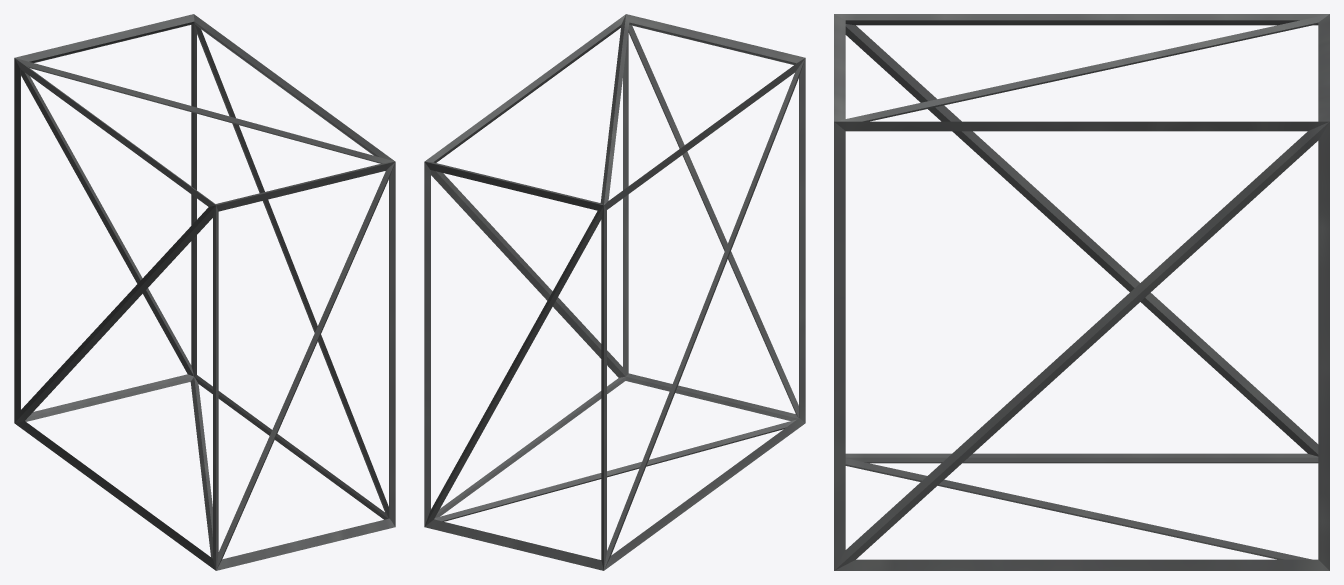
Rendered from scaffolding.fbx.
3 views of the same model, side by side, from view 1: azimuth 30°, elevation 25°; view 2: azimuth 150°, elevation 25°; view 3: azimuth 270°, elevation 25° (orthographic). The views are drawn at different scales.
Visible parts, largest first — view 1: Cube.015; view 2: Cube.015; view 3: Cube.015.
Part boxes in pixels (x1,y1,x2,y2): Cube.015: (14, 14, 395, 570); Cube.015: (424, 14, 805, 570); Cube.015: (834, 14, 1329, 570).
Size of the model in its own units: 101 by 196 by 196.
